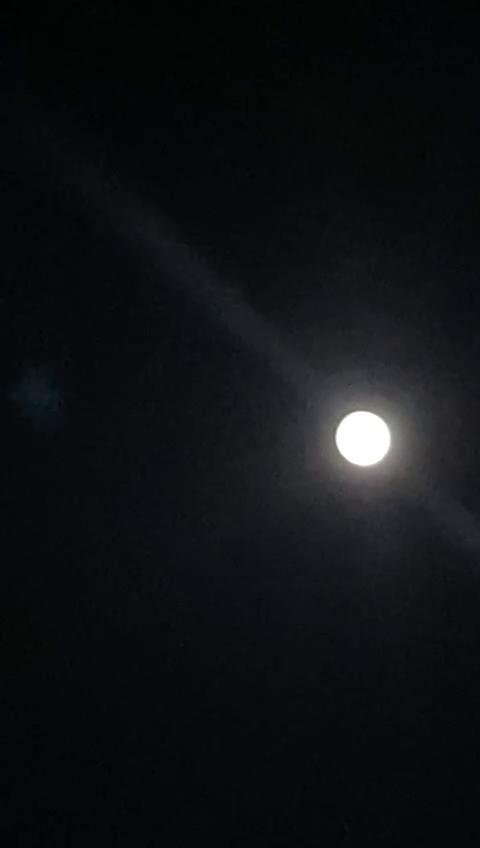moon: (314, 388, 410, 482)
